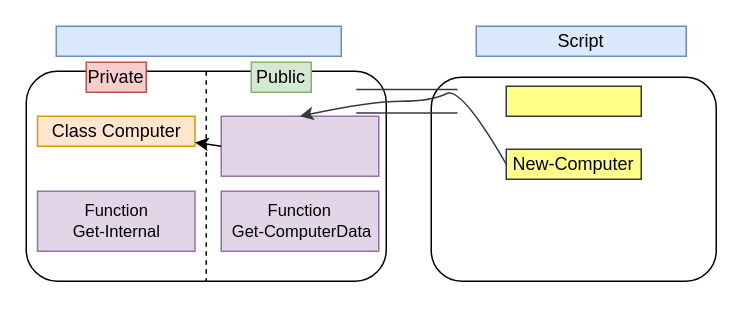
Image size: 743x309. Some labels were removed from this diagram. The box of each missing label's shape, as (x1, y1, x2, y2) in pixels:
Function New-Computer: (220, 115, 379, 176)
import-module: (505, 85, 641, 116)
Module: (55, 25, 341, 56)
